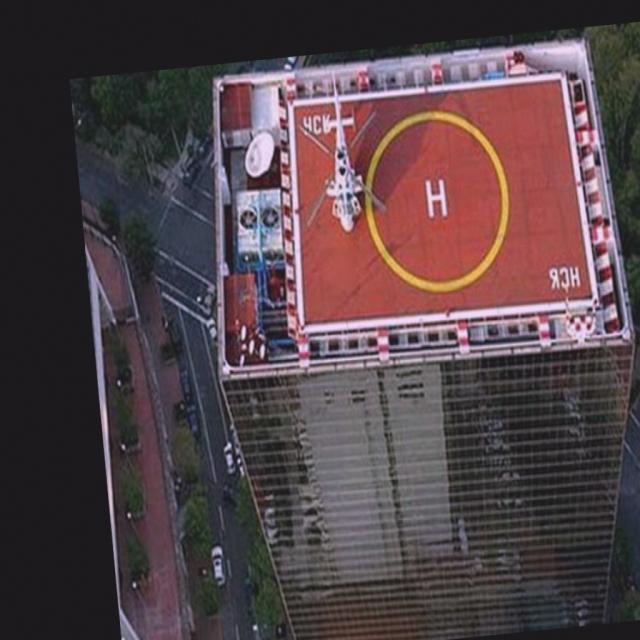helipad: (362, 107, 513, 295)
